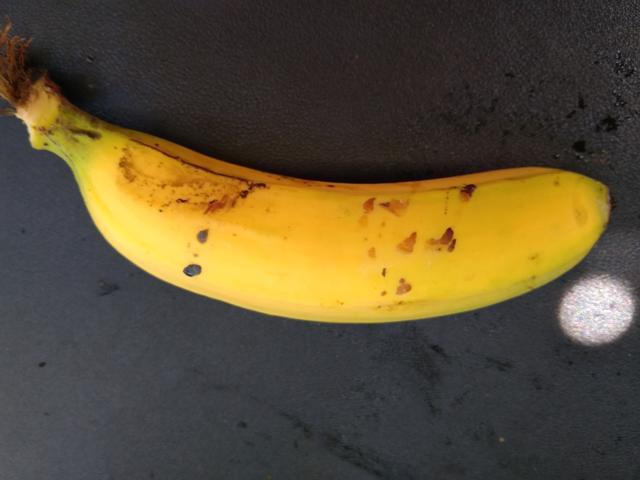ripe: (66, 82, 633, 356)
